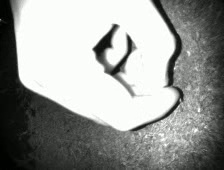corn: (167, 62, 178, 74)
